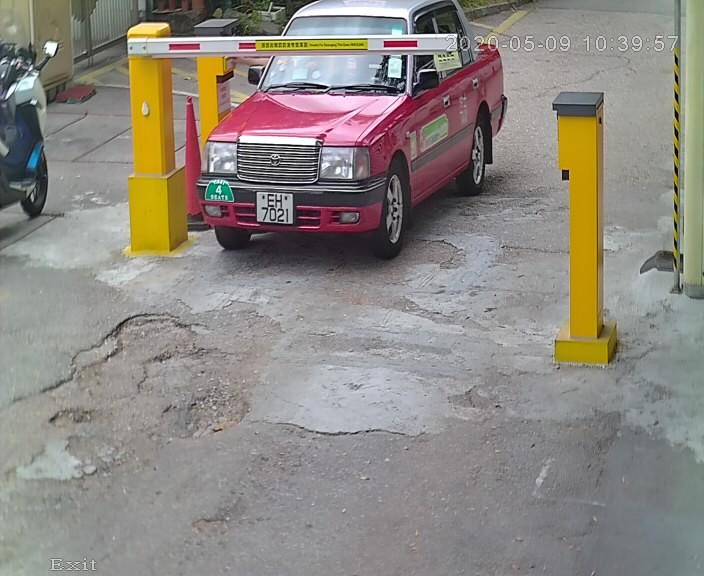Car: (190, 1, 514, 269)
License Plate: (249, 183, 303, 230)
